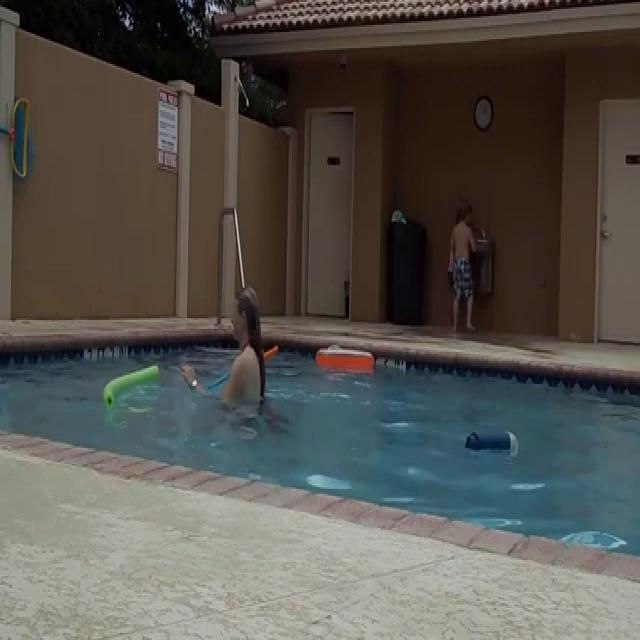adult: (180, 287, 274, 444)
child: (448, 197, 480, 331)
